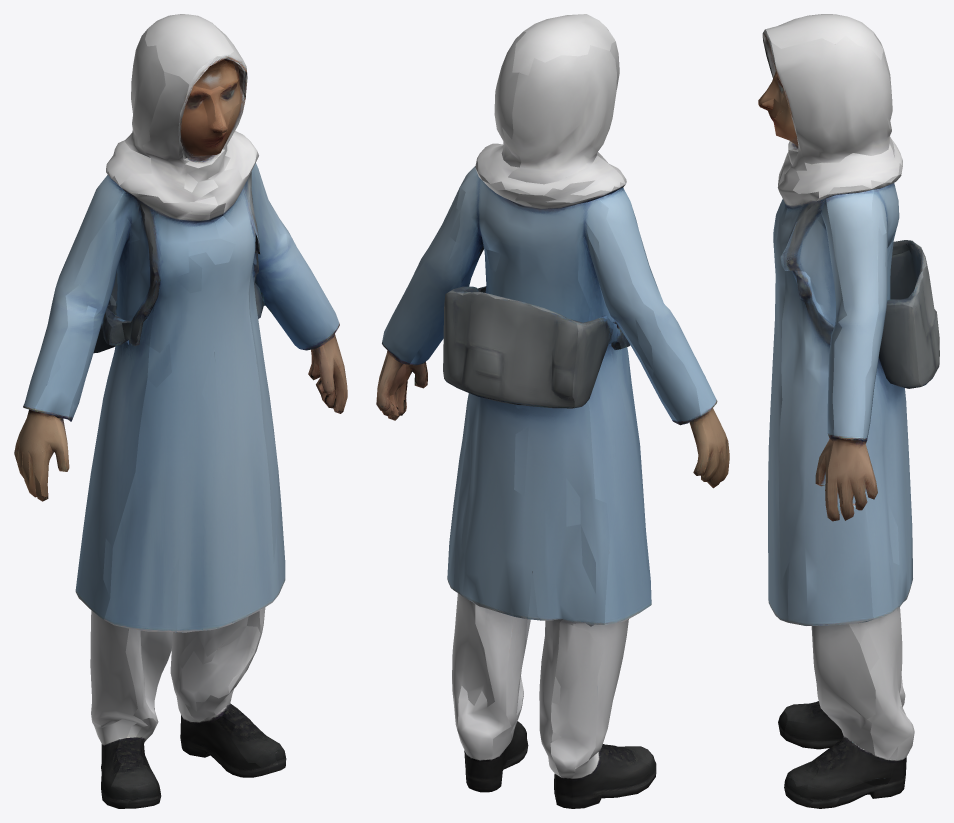
The model's file is shoolkidobject_0.glb.
The picture shows the model from 3 angles, left to right: view 1: azimuth 30°, elevation 25°; view 2: azimuth 150°, elevation 25°; view 3: azimuth 270°, elevation 25°; orthographic projection.
Visible parts, largest first — view 1: world; view 2: world; view 3: world.
Part boxes in pixels (bbox=[...]): world: bbox=[14, 14, 347, 808]; world: bbox=[376, 14, 729, 808]; world: bbox=[758, 14, 939, 808].
Bounding box in the file's own units: 0.4583 × 1 × 0.2195.
1 material, 1 textured.
